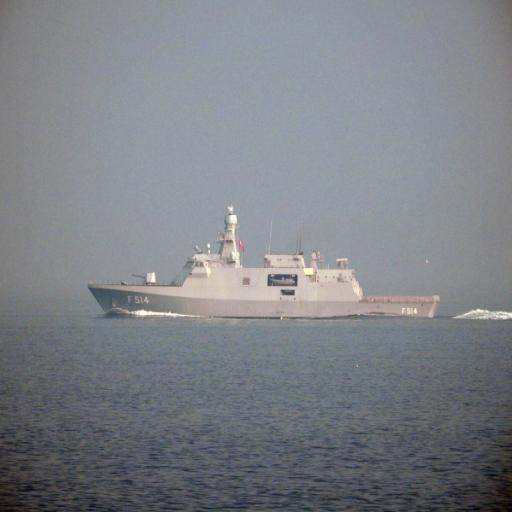Fragata: (84, 202, 442, 326)
